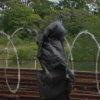Statue: (32, 17, 80, 100)
